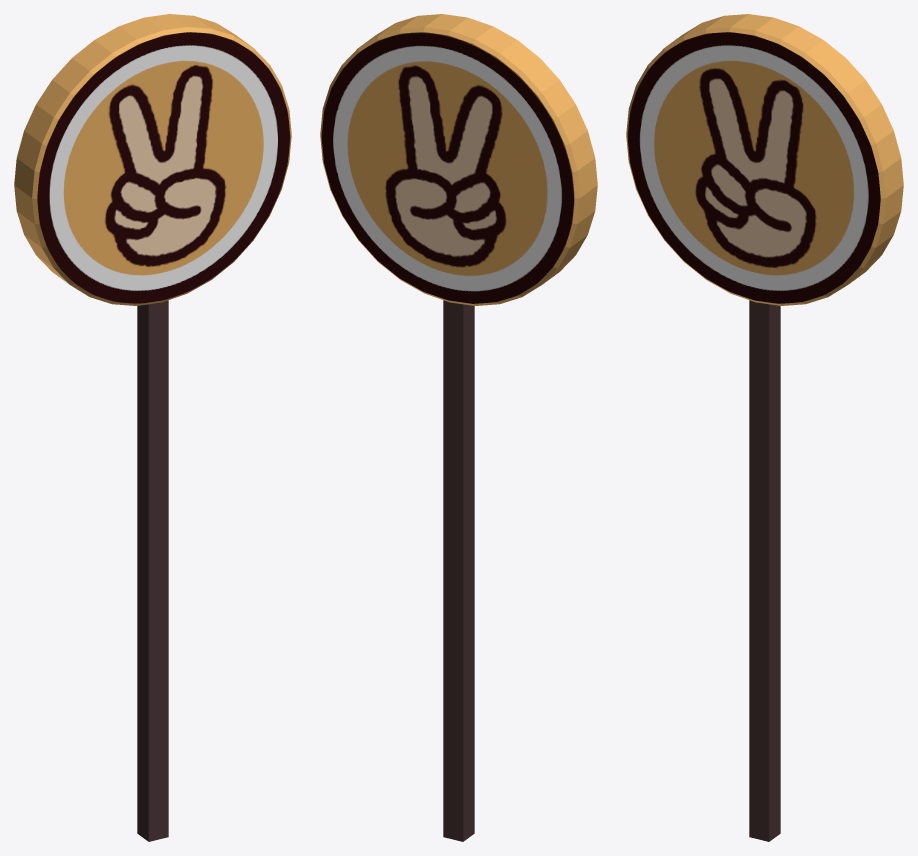
The model's file is choki.glb.
3 views of the same model, side by side, from view 1: azimuth 30°, elevation 25°; view 2: azimuth 150°, elevation 25°; view 3: azimuth 330°, elevation 25° (orthographic).
Visible parts, largest first — view 1: 円柱, Cube; view 2: 円柱, Cube; view 3: 円柱, Cube.
Part boxes in pixels (x1=…): 円柱: x1=14, y1=14, x2=291, y2=305; Cube: x1=137, y1=300, x2=168, y2=841; 円柱: x1=320, y1=14, x2=597, y2=305; Cube: x1=443, y1=300, x2=474, y2=841; 円柱: x1=626, y1=14, x2=903, y2=305; Cube: x1=749, y1=300, x2=780, y2=841.
Bounding box in the file's own units: 3.66 × 10.92 × 0.5259.
2 materials, 1 textured.
